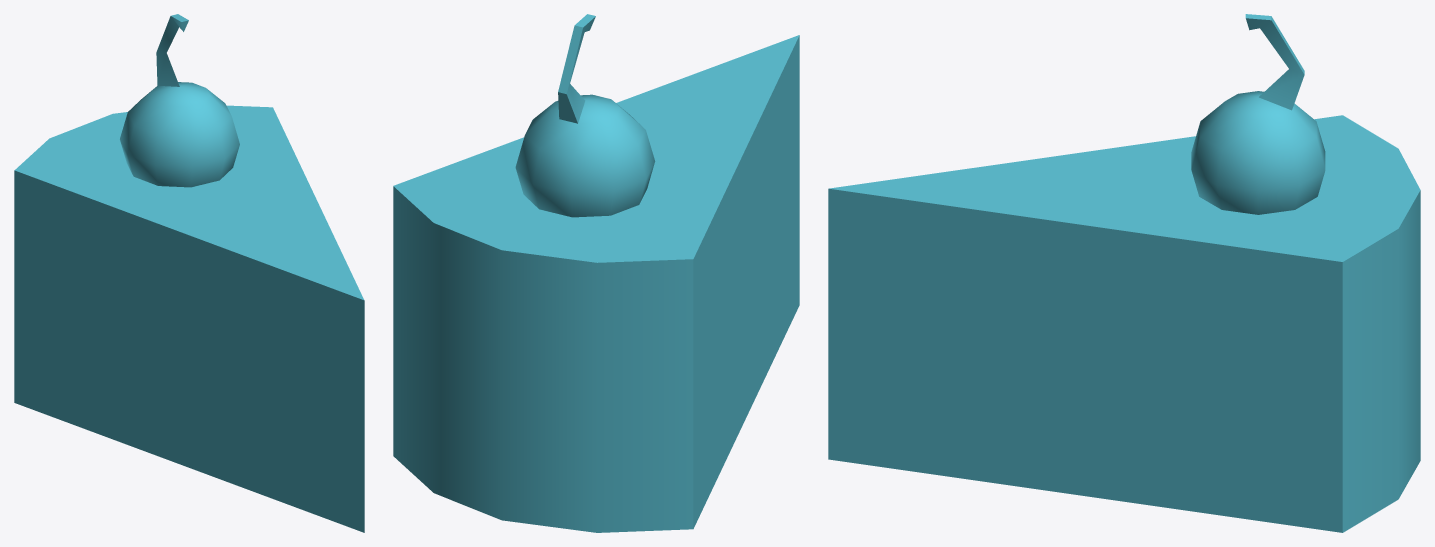
Rendered from cake.fbx.
3 renders of one model, left to right at view 1: azimuth 30°, elevation 25°; view 2: azimuth 150°, elevation 25°; view 3: azimuth 270°, elevation 25°, orthographic. The views are drawn at different scales.
Visible parts, largest first — view 1: cake; view 2: cake; view 3: cake.
Boxes of the visible parts, x1,y1,x2,y2 form: cake: (14, 14, 364, 532); cake: (393, 14, 799, 532); cake: (828, 14, 1420, 532).
Bounding box in the file's own units: 0.169 × 0.2378 × 0.2878.
